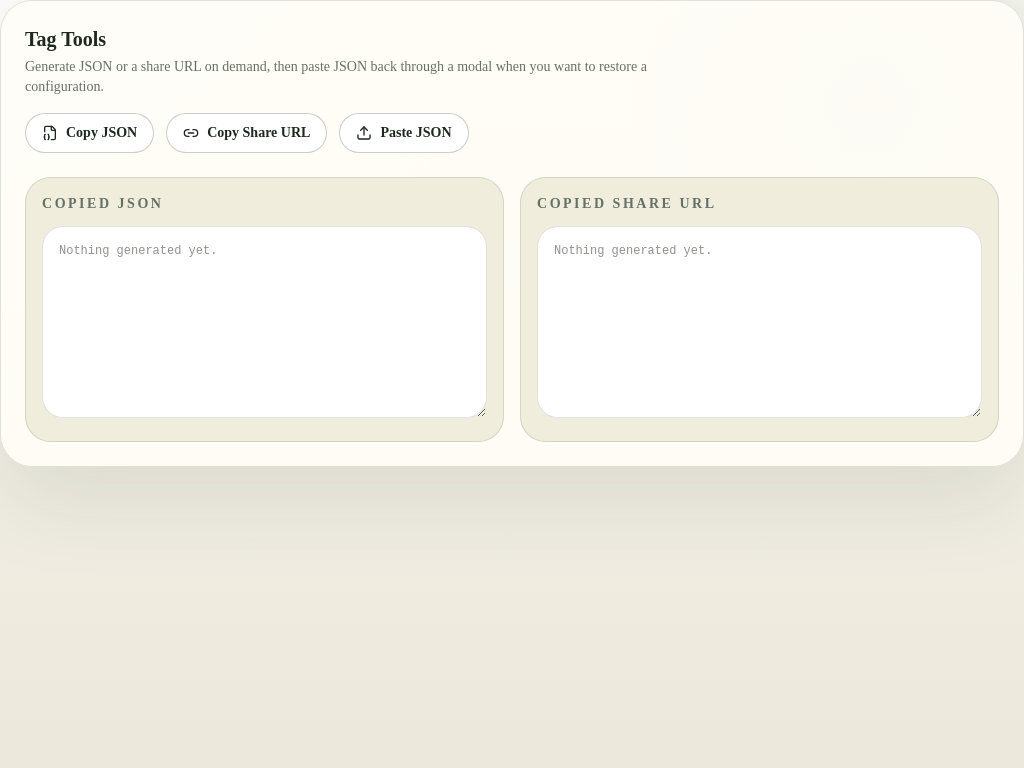
Test: TagTools › opens the paste modal on demand
This screenshot has width=1024, height=768.
Click the button "Paste JSON". click: [404, 133]
box: [339, 113, 469, 153]
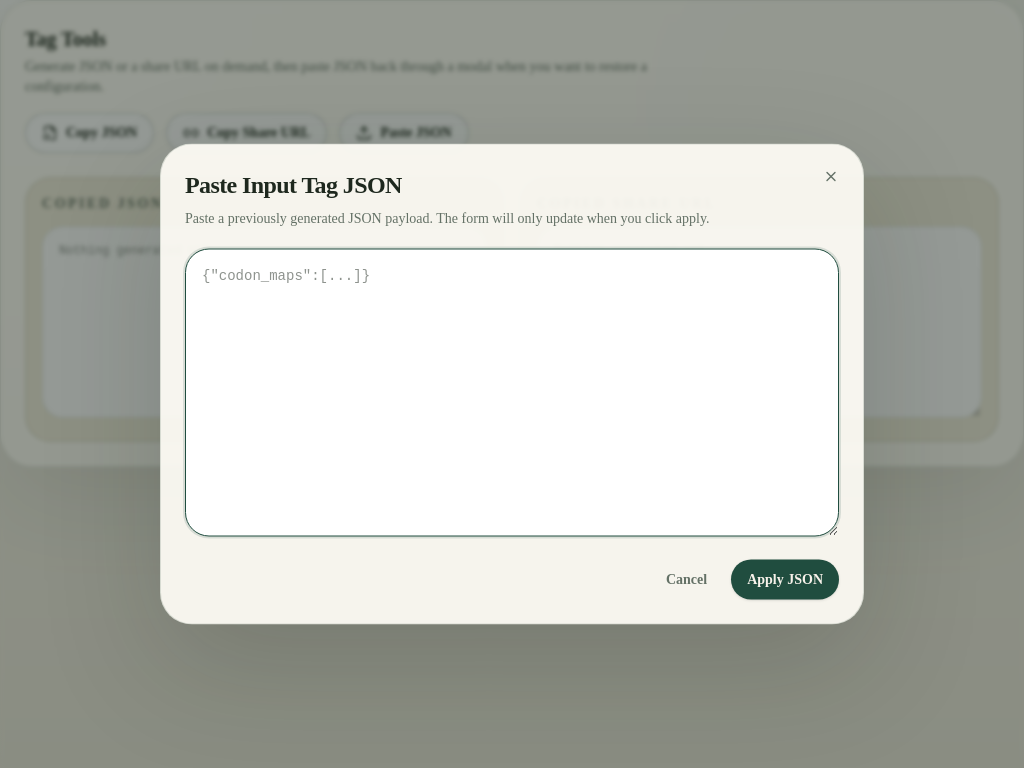
Expected: the text box with placeholder "{\"codon_maps\":[...]}" is shown, [185, 248, 839, 536]
